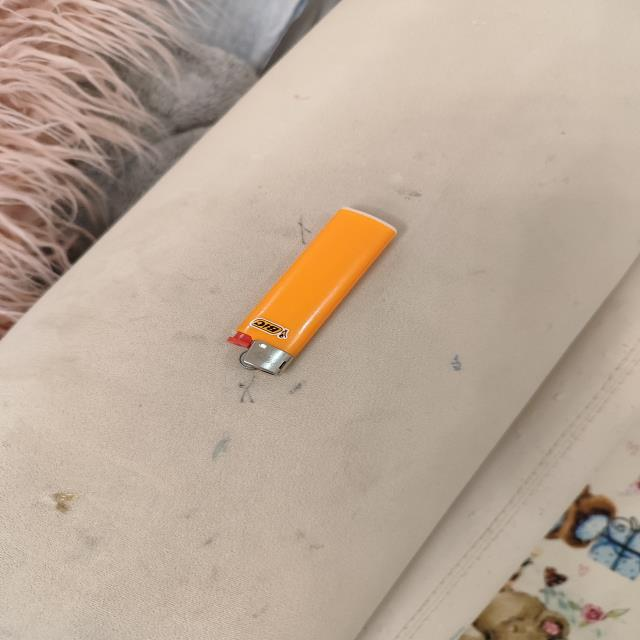lighter: (228, 208, 397, 373)
